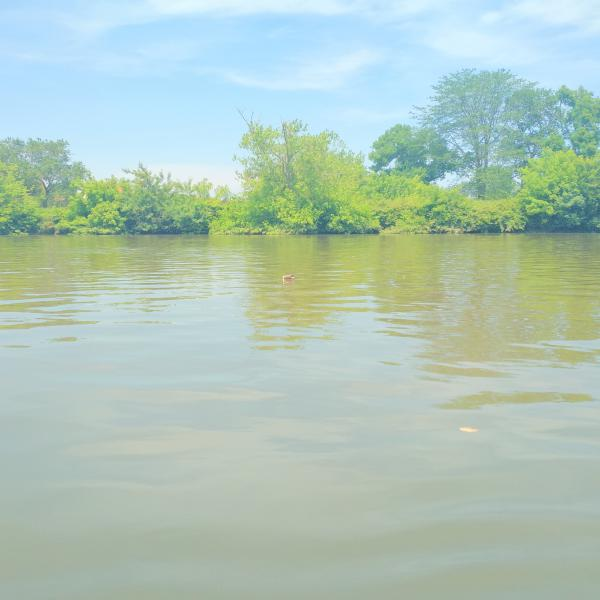bottles: (280, 272, 296, 279)
